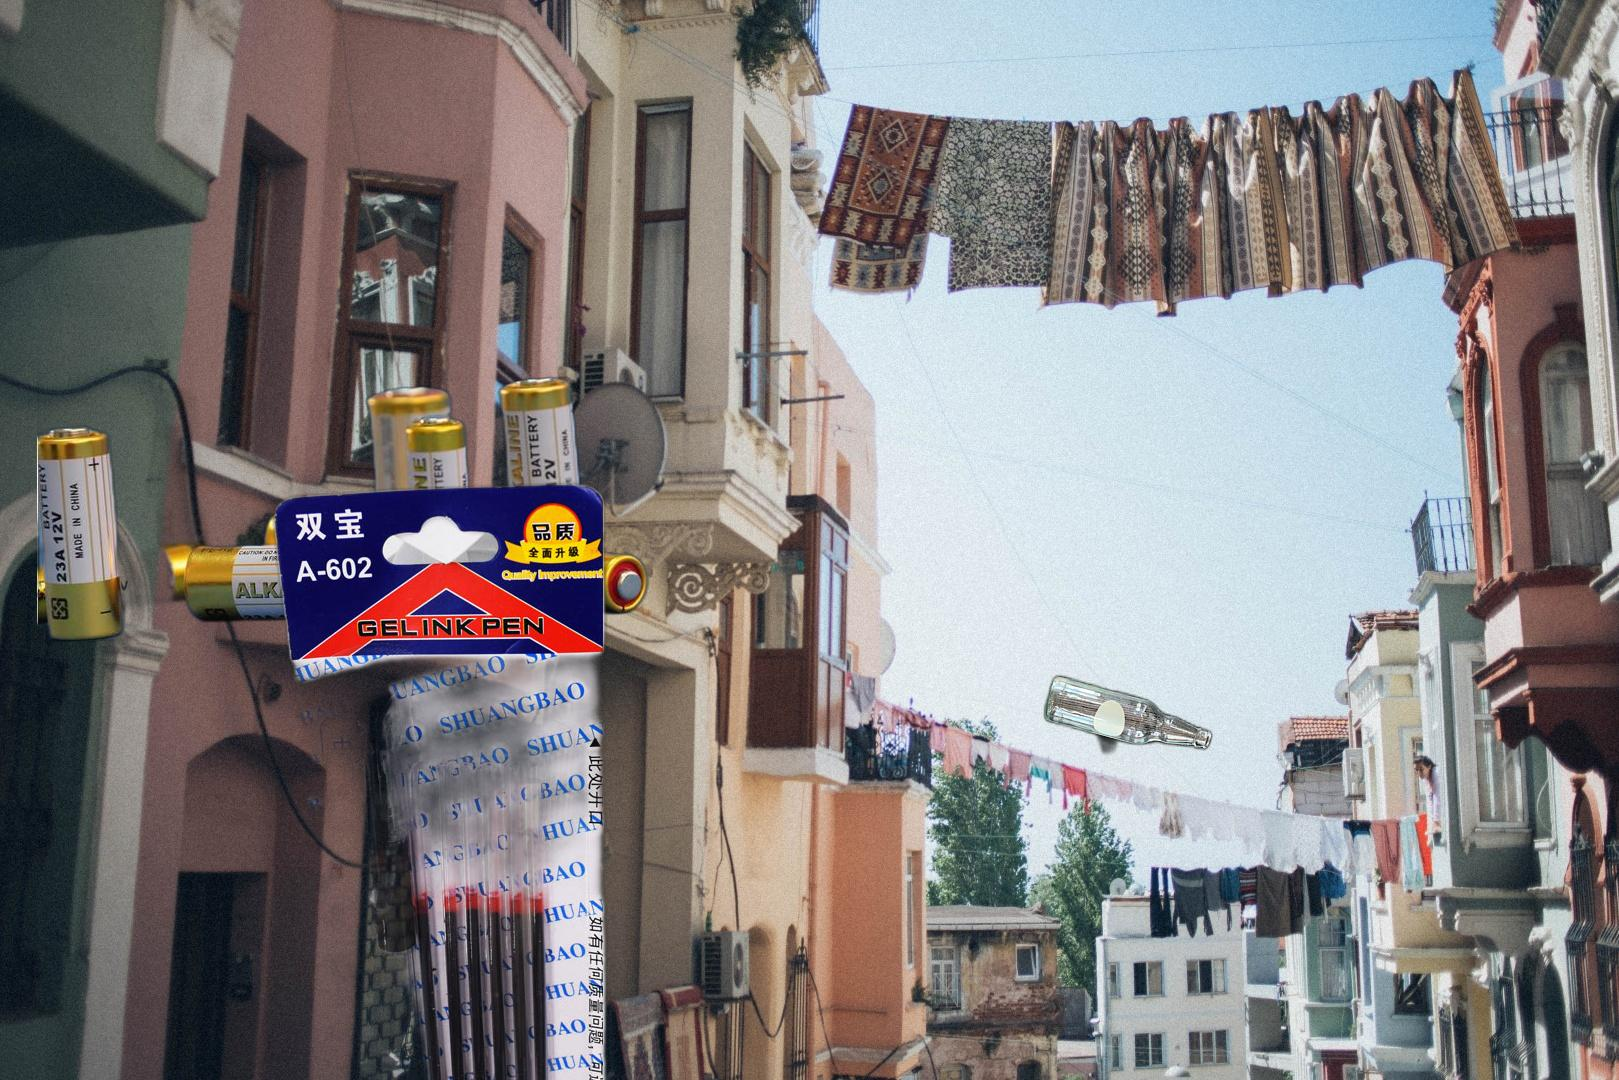battery: (37, 310, 655, 741)
glass: (1039, 669, 1337, 1080)
penholder: (266, 460, 614, 1080)
plastic-bottles: (896, 925, 1213, 1080)
